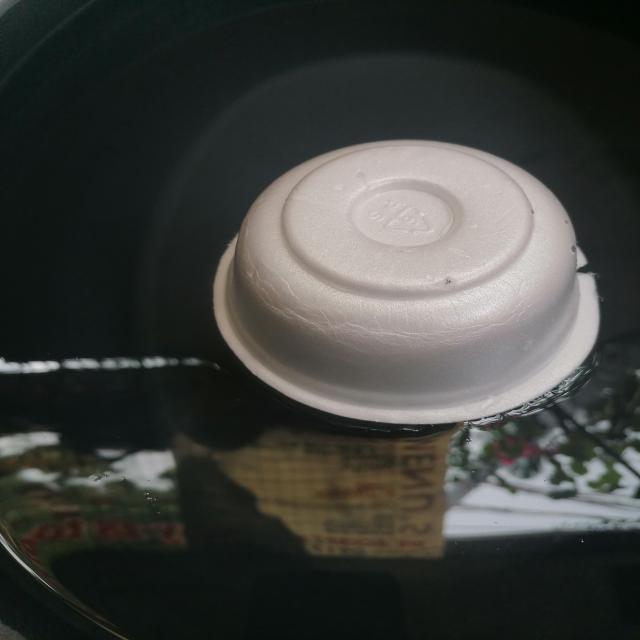Styrofoam Container: (214, 141, 599, 425)
